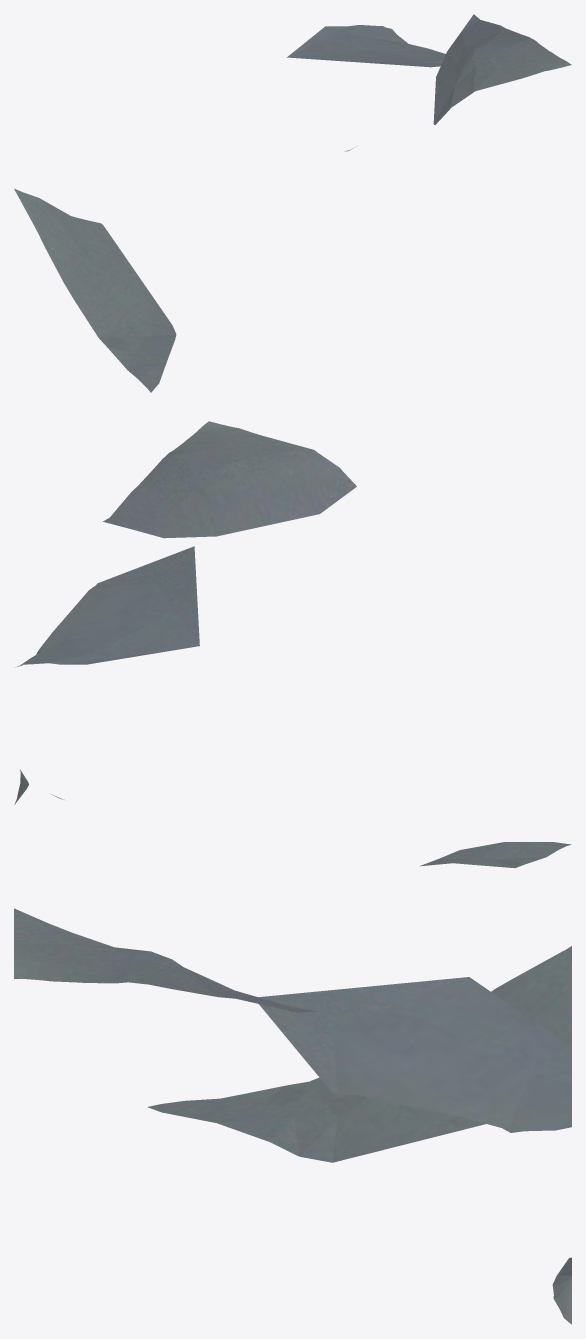
Rendered from Tile_+000_+006_L22_00003000.glb.
3 views of the same model, one above another, from view 1: azimuth 30°, elevation 25°; view 2: azimuth 150°, elevation 25°; view 3: azimuth 270°, elevation 25° (orthographic). The views are drawn at different scales.
Parts seen in each view (by area): view 1: rtc; view 2: rtc; view 3: rtc.
Boxes of the visible parts, bbox=[...] form: rtc: bbox=[14, 14, 571, 392]; rtc: bbox=[14, 421, 571, 868]; rtc: bbox=[14, 908, 571, 1324].
Bounding box in the file's own units: 30.39 × 20.55 × 25.06.
1 material, 1 textured.
